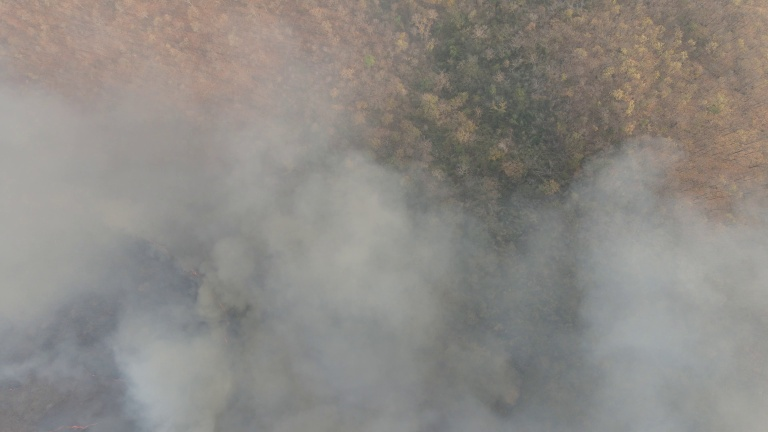fire: (184, 260, 209, 284)
smoke: (1, 69, 445, 419), (572, 139, 768, 424)
